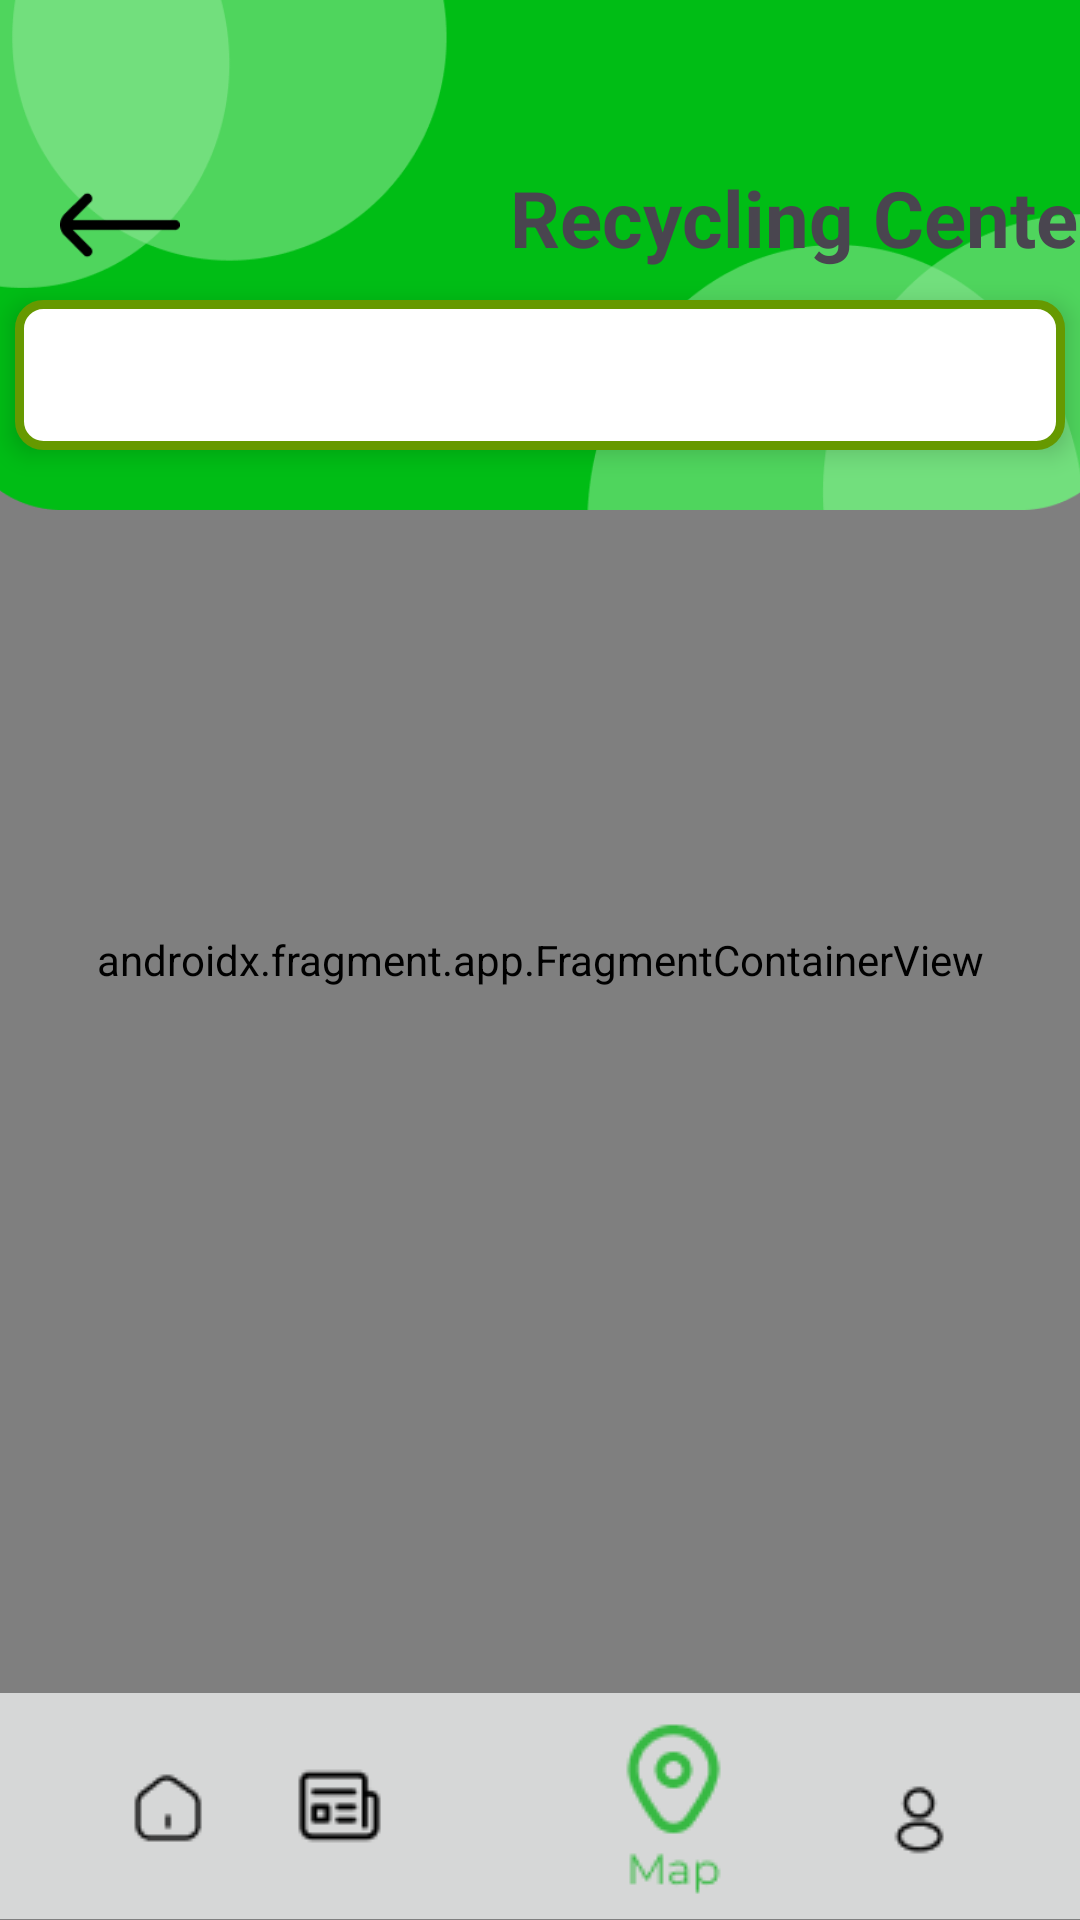

Point at icon controls on the screen. Image size 1080 x 1920, points as (x=x, y=y).
Back: (x=120, y=225)
bulletin: (x=339, y=1806)
home: (x=168, y=1808)
profile: (x=919, y=1820)
